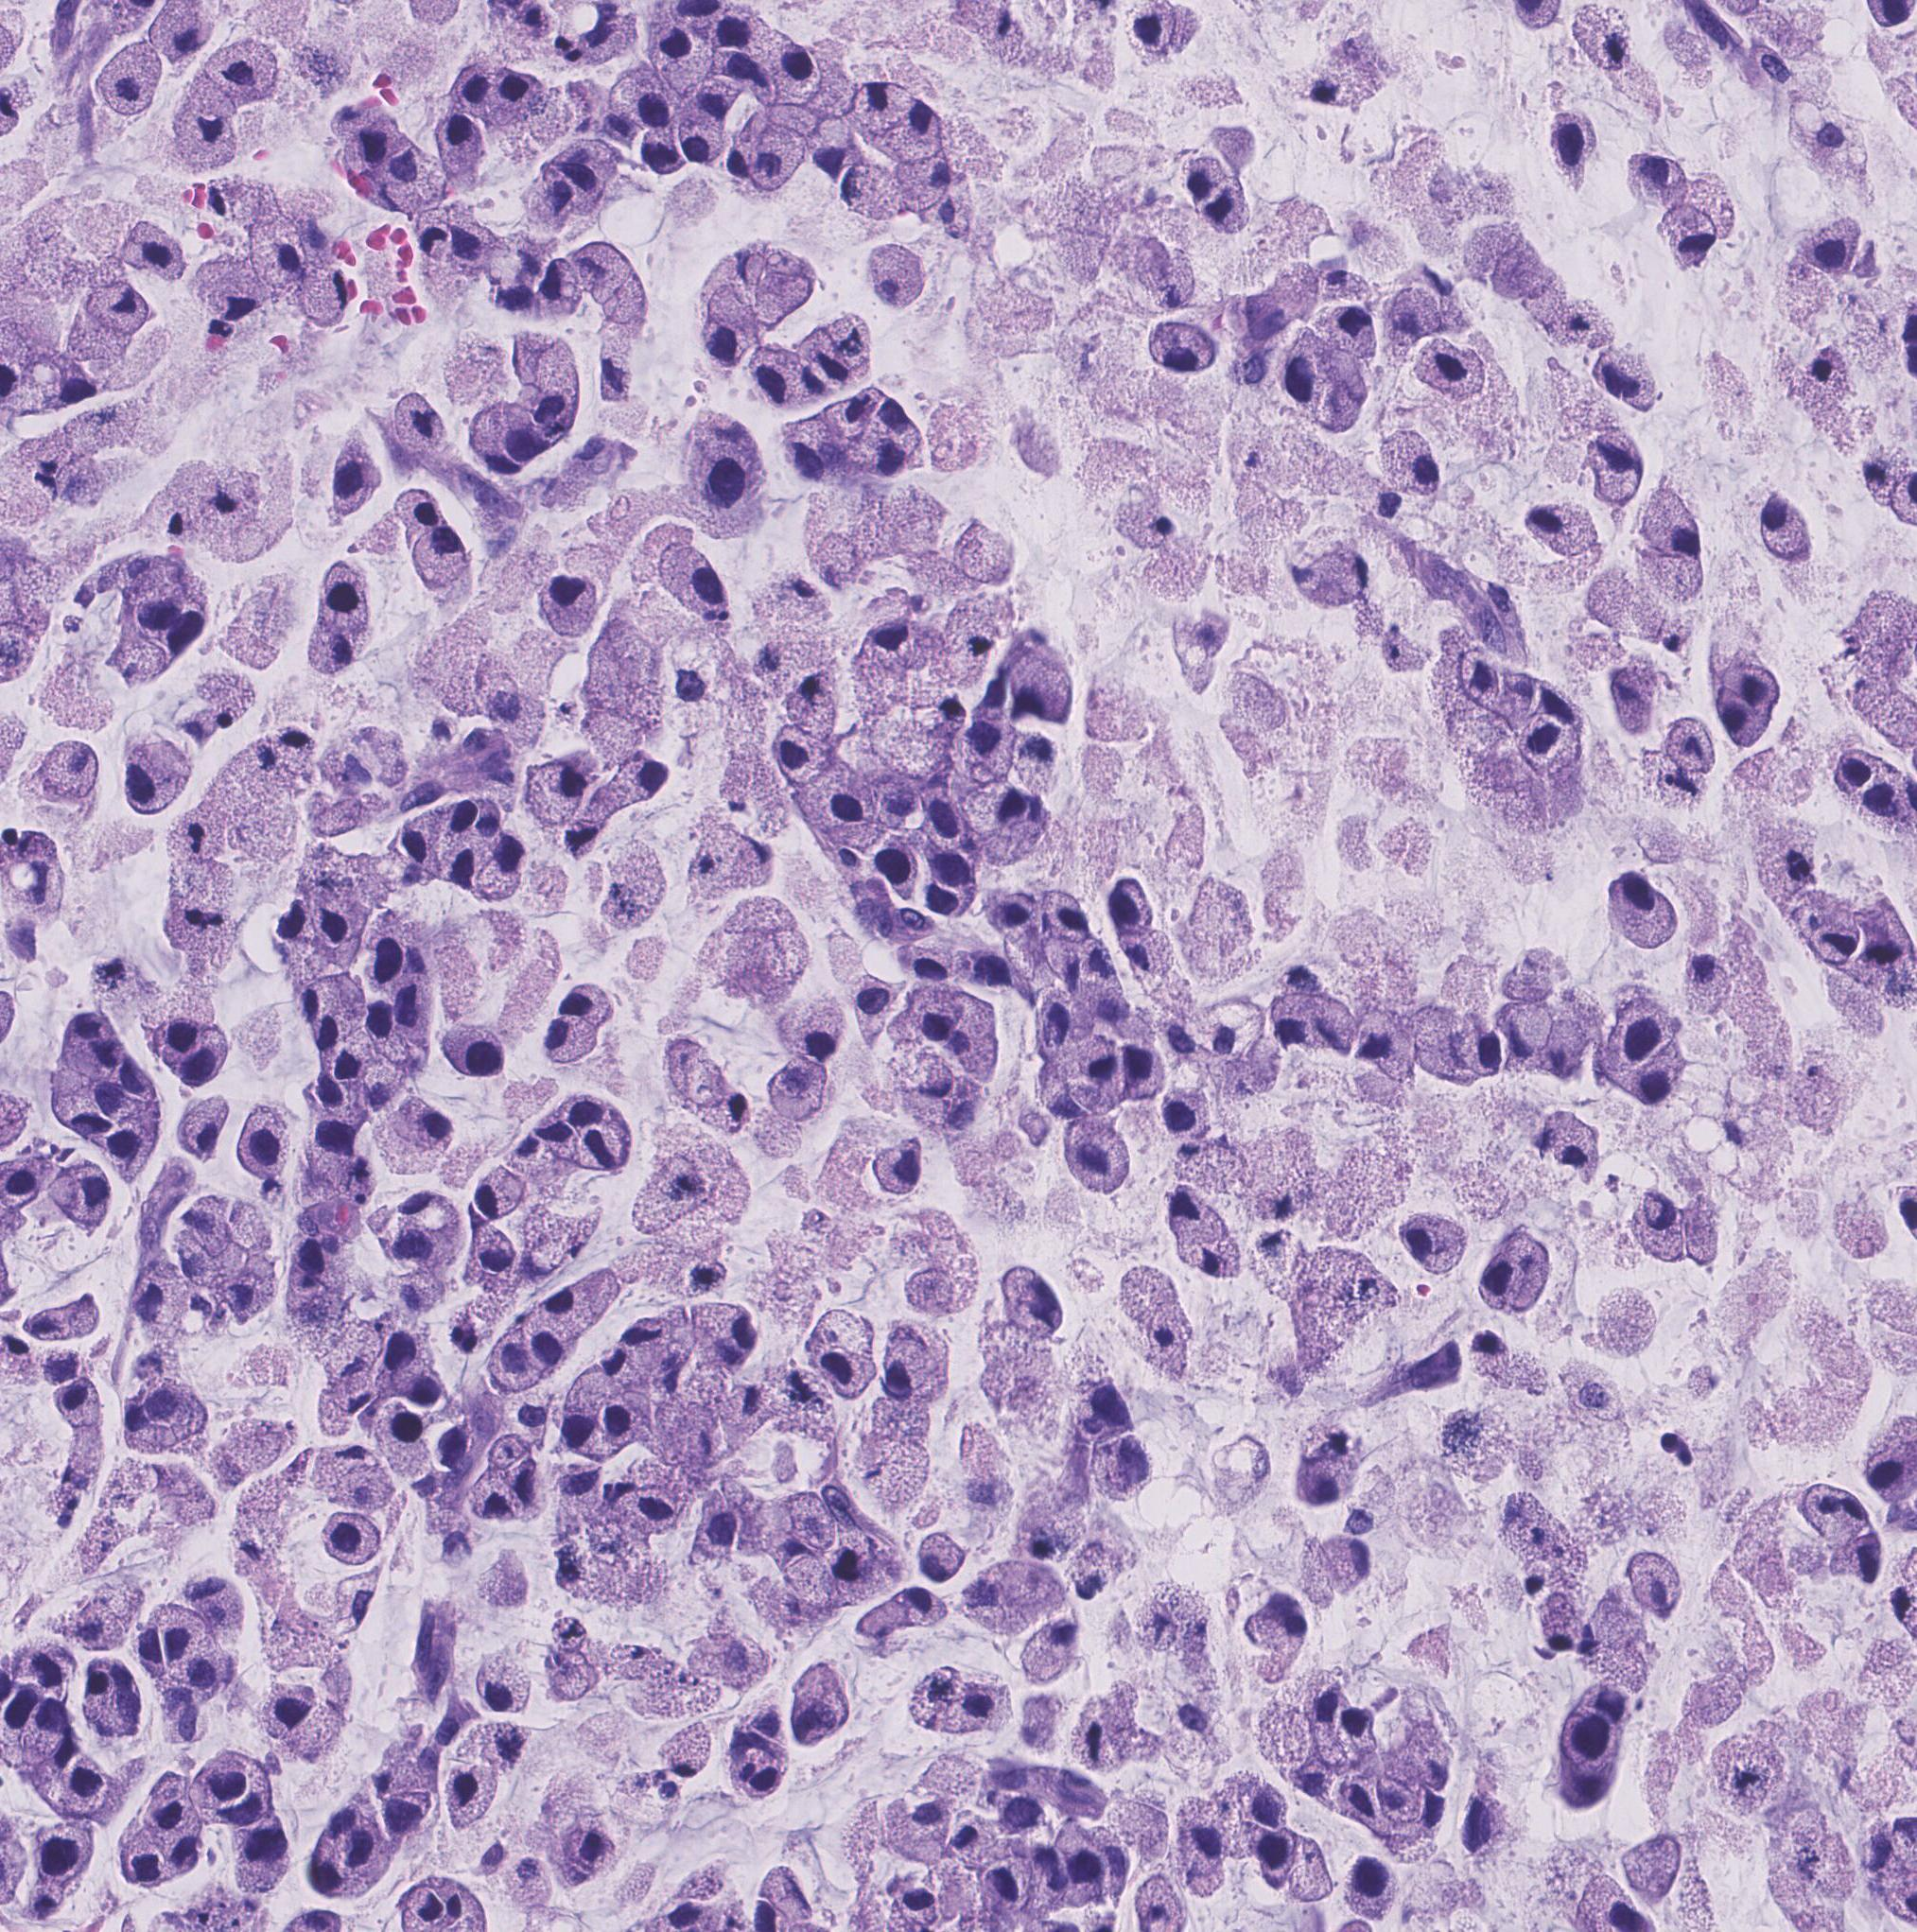ring_cell_cancer: (686, 409, 764, 537), (123, 562, 212, 670), (1118, 1270, 1203, 1377), (1499, 1495, 1594, 1585), (181, 467, 269, 556), (655, 533, 739, 626), (671, 1041, 751, 1135), (967, 1562, 1069, 1632), (799, 763, 878, 851), (574, 244, 650, 333), (1662, 177, 1734, 270), (469, 398, 555, 476), (558, 1535, 644, 1613), (1557, 1706, 1620, 1809), (857, 1430, 939, 1507), (328, 104, 414, 177), (1243, 1586, 1313, 1676), (734, 247, 815, 325), (172, 81, 239, 174), (1231, 265, 1317, 335), (1748, 819, 1826, 897), (1713, 1735, 1784, 1820), (1601, 993, 1678, 1067), (534, 1270, 625, 1332), (241, 1518, 298, 1614), (1608, 874, 1678, 953), (1001, 1262, 1067, 1344), (518, 337, 579, 426), (1640, 483, 1705, 567), (600, 844, 664, 930), (1060, 1120, 1132, 1195), (637, 1149, 706, 1228), (176, 862, 233, 955), (126, 735, 193, 816), (771, 1360, 837, 1441), (999, 649, 1071, 723), (1480, 1230, 1545, 1311), (1174, 1800, 1234, 1888), (485, 660, 548, 742), (1803, 1476, 1875, 1548), (1531, 1113, 1605, 1183), (1629, 1183, 1689, 1269), (1796, 893, 1861, 972), (757, 572, 839, 633), (377, 1091, 451, 1160), (1524, 495, 1603, 558), (946, 998, 1008, 1077), (851, 623, 946, 674), (1383, 284, 1454, 353), (823, 1534, 892, 1604), (179, 1571, 251, 1637), (1590, 339, 1655, 412), (1613, 1042, 1689, 1106), (100, 39, 162, 116), (1410, 339, 1489, 398), (860, 1586, 950, 1639), (792, 1664, 850, 1744), (1073, 1693, 1131, 1774), (755, 25, 818, 98), (741, 119, 804, 193), (235, 1100, 288, 1188), (139, 995, 218, 1053), (711, 1377, 778, 1446), (1583, 430, 1645, 504), (1159, 1184, 1234, 1244), (704, 288, 758, 370), (1403, 1213, 1471, 1277), (748, 340, 811, 411), (1074, 1367, 1138, 1437), (197, 261, 269, 323), (121, 1256, 181, 1330), (65, 1595, 139, 1655), (1304, 1667, 1348, 1767), (555, 435, 641, 486), (1801, 105, 1859, 181), (1301, 549, 1376, 607), (553, 1814, 620, 1879), (887, 1323, 941, 1402), (218, 1255, 277, 1327), (233, 1818, 293, 1890), (1622, 1546, 1682, 1618), (397, 388, 453, 463), (697, 1302, 762, 1367), (613, 70, 679, 133), (407, 526, 470, 593), (1387, 1727, 1450, 1793), (1619, 1830, 1685, 1893), (12, 1697, 74, 1765), (730, 1732, 790, 1802), (781, 995, 839, 1067), (888, 1786, 946, 1858), (1283, 330, 1329, 421), (1303, 51, 1382, 104), (1462, 1781, 1510, 1869), (1143, 318, 1217, 374), (330, 430, 379, 514), (1543, 297, 1619, 351), (541, 563, 595, 639), (843, 160, 906, 225), (1162, 1692, 1224, 1758), (1090, 1435, 1152, 1502), (767, 725, 836, 784), (321, 1320, 381, 1388), (1361, 1005, 1413, 1083), (772, 1053, 829, 1125), (37, 1821, 93, 1893), (197, 1751, 270, 1806), (386, 809, 444, 877), (1041, 1764, 1109, 1821), (376, 1407, 432, 1478), (658, 1402, 714, 1472), (1020, 1613, 1076, 1683), (88, 1662, 139, 1739), (1606, 660, 1657, 737), (955, 709, 1009, 781), (885, 104, 946, 167), (255, 216, 307, 290), (446, 1018, 511, 1077), (1201, 1005, 1266, 1065), (614, 1316, 681, 1374), (1550, 109, 1594, 197), (567, 1370, 613, 1455), (77, 281, 153, 332), (1501, 998, 1552, 1074), (918, 175, 980, 237), (139, 1776, 200, 1837), (962, 1428, 1006, 1514), (472, 1655, 535, 1714), (1313, 1535, 1376, 1595), (853, 77, 918, 135), (865, 244, 923, 309), (1573, 5, 1631, 70), (23, 1297, 102, 1344), (33, 356, 102, 411), (532, 756, 581, 832), (1452, 642, 1504, 712), (890, 158, 950, 219), (216, 42, 279, 100), (1627, 151, 1691, 209), (1383, 430, 1440, 495), (1710, 690, 1775, 746), (1011, 726, 1067, 791), (846, 970, 901, 1037), (448, 1757, 497, 1830), (312, 877, 365, 946), (1052, 1823, 1102, 1893), (49, 1757, 109, 1816), (139, 1383, 200, 1441), (1315, 300, 1378, 356), (943, 1811, 1006, 1867), (327, 556, 370, 637), (1568, 1362, 1622, 1427), (472, 1211, 518, 1288), (676, 98, 729, 165), (165, 1034, 233, 1084), (674, 649, 714, 735), (156, 1604, 216, 1662), (321, 1509, 384, 1563), (60, 1160, 111, 1227), (953, 1679, 1013, 1735), (709, 1632, 767, 1688), (783, 674, 836, 735), (1517, 718, 1569, 779), (969, 779, 1032, 830), (492, 1327, 541, 1392), (690, 828, 730, 907), (1801, 216, 1856, 274), (820, 1344, 874, 1402), (125, 223, 184, 275), (909, 984, 962, 1044), (42, 737, 93, 798), (1573, 1676, 1634, 1727), (1763, 490, 1803, 567), (23, 837, 63, 914), (1271, 993, 1320, 1056), (616, 1486, 681, 1534), (184, 1195, 232, 1260), (853, 433, 918, 481), (1118, 919, 1174, 974), (421, 1478, 474, 1535), (377, 1276, 453, 1316), (291, 979, 367, 1020), (1720, 663, 1787, 709), (177, 1095, 223, 1162), (876, 1134, 925, 1195), (1253, 1821, 1297, 1890), (786, 1490, 834, 1553), (1799, 344, 1845, 409), (397, 1190, 462, 1235), (1181, 1235, 1246, 1281), (1536, 1588, 1578, 1658), (486, 75, 544, 126), (263, 1685, 314, 1742), (1666, 719, 1713, 781), (990, 890, 1037, 951), (871, 834, 916, 897), (915, 1665, 957, 1734), (506, 1386, 551, 1449), (1299, 1451, 1352, 1506), (541, 1014, 599, 1063), (370, 912, 406, 993), (1747, 39, 1794, 98), (827, 314, 874, 374), (330, 1460, 391, 1506), (1104, 881, 1157, 934), (295, 1239, 348, 1292), (1836, 742, 1889, 795), (1036, 995, 1088, 1048), (335, 1565, 376, 1634), (706, 9, 762, 58), (476, 1725, 534, 1772), (18, 1646, 75, 1693), (439, 114, 481, 179), (1547, 1018, 1589, 1083), (1120, 1041, 1166, 1100), (388, 979, 434, 1039), (304, 265, 348, 326), (448, 209, 492, 270), (411, 211, 455, 272), (555, 983, 616, 1027), (925, 783, 966, 849), (479, 837, 520, 904), (597, 333, 637, 400), (1827, 1532, 1880, 1583), (672, 1248, 730, 1293), (1313, 993, 1353, 1058), (388, 1230, 453, 1270), (1129, 5, 1181, 54), (725, 832, 774, 884), (820, 397, 872, 446), (978, 1753, 1039, 1795), (1257, 1160, 1299, 1221), (609, 1642, 676, 1681), (648, 26, 706, 70), (58, 1102, 116, 1146), (1376, 1774, 1420, 1832), (397, 488, 446, 539), (470, 1474, 520, 1525), (869, 395, 916, 447), (1678, 953, 1724, 1007), (514, 1134, 560, 1188), (348, 1820, 388, 1881), (785, 428, 825, 490), (549, 1646, 593, 1702), (899, 944, 957, 986), (920, 1534, 969, 1583), (593, 1399, 643, 1448), (2, 1158, 51, 1207), (314, 1113, 363, 1162), (1243, 1783, 1292, 1832), (476, 1172, 523, 1223), (525, 1316, 565, 1376), (1074, 1539, 1115, 1599), (1043, 891, 1088, 944), (207, 1792, 272, 1828), (437, 1420, 481, 1474), (700, 1497, 736, 1563), (321, 1383, 370, 1430), (1534, 679, 1583, 726), (381, 1330, 434, 1374), (553, 1469, 607, 1511), (579, 1123, 627, 1170), (1180, 154, 1229, 200), (314, 626, 358, 677), (1020, 1688, 1055, 1751), (1139, 1595, 1178, 1651), (54, 1381, 100, 1428), (667, 1727, 711, 1776), (90, 1081, 139, 1125), (1166, 1090, 1208, 1141), (646, 125, 685, 179), (1341, 1704, 1376, 1764), (67, 1005, 114, 1049), (535, 1114, 579, 1160), (384, 1793, 432, 1835), (1206, 181, 1246, 230), (311, 1076, 360, 1116), (564, 1091, 613, 1132), (1499, 672, 1534, 728), (448, 798, 476, 867), (276, 893, 311, 948), (997, 1795, 1046, 1834), (1339, 1772, 1373, 1828), (697, 79, 741, 121), (1289, 1758, 1332, 1799), (927, 881, 973, 919), (35, 1351, 84, 1386), (455, 70, 495, 111), (486, 1430, 528, 1469), (312, 1014, 355, 1053), (144, 1611, 167, 1681), (797, 346, 827, 398), (119, 555, 160, 593), (323, 1044, 367, 1079), (551, 1623, 588, 1649)
